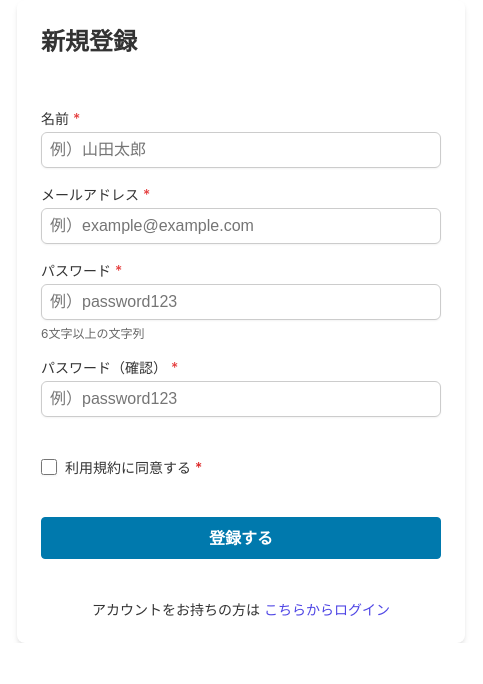
Test: RegisterForm › バリデーション › 名前が空の場合にエラーメッセージが表示されること
Click the field labelled "名前*": click(241, 150) [41, 132, 441, 168]
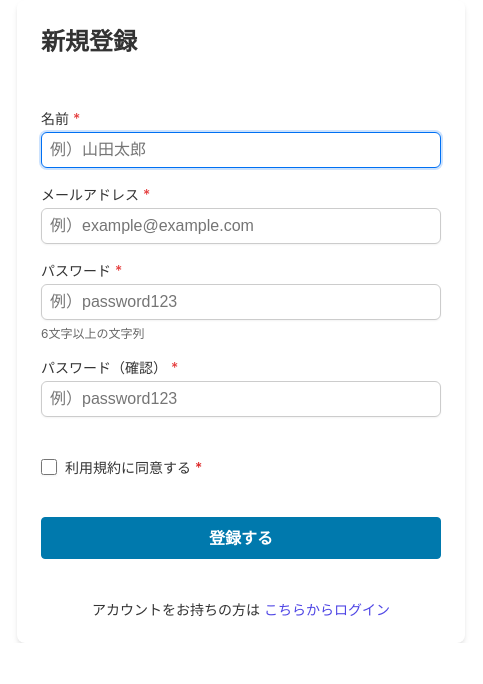
Press Tab
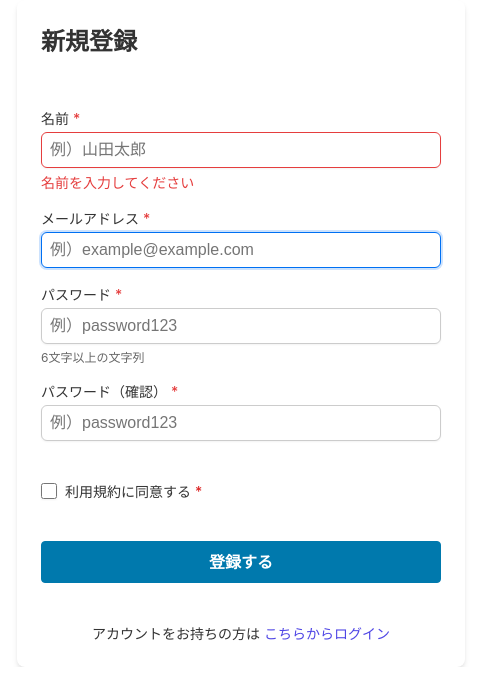
Now the text "名前を入力してください" is shown, box [41, 174, 194, 191]
